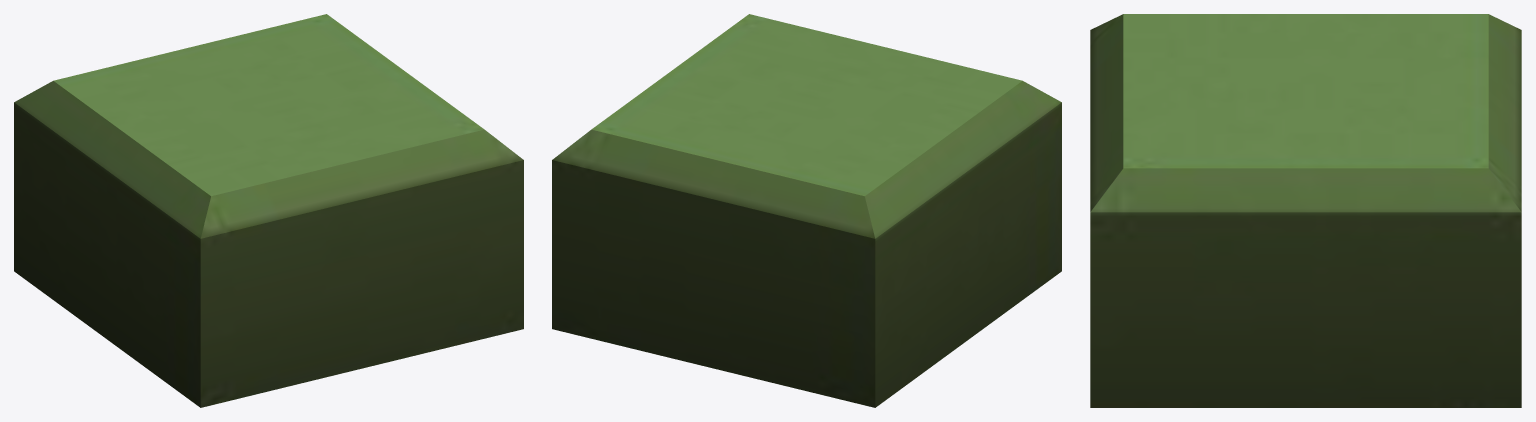
Rendered from pumpjack.glb.
3 renders of one model, left to right at view 1: azimuth 30°, elevation 25°; view 2: azimuth 150°, elevation 25°; view 3: azimuth 270°, elevation 25°, orthographic. The views are drawn at different scales.
Visible parts, largest first — view 1: pumpjack; view 2: pumpjack; view 3: pumpjack.
Part boxes in pixels (x1,y1,x2,y2): pumpjack: (14, 14, 523, 407); pumpjack: (552, 14, 1061, 407); pumpjack: (1090, 14, 1521, 407).
Bounding box in the file's own units: 0.26 × 0.15 × 0.26.
Materials: 1 (1 with a texture image).
